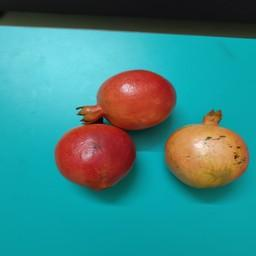pomegranate: (164, 108, 250, 190), (75, 69, 177, 130), (53, 121, 137, 191)
